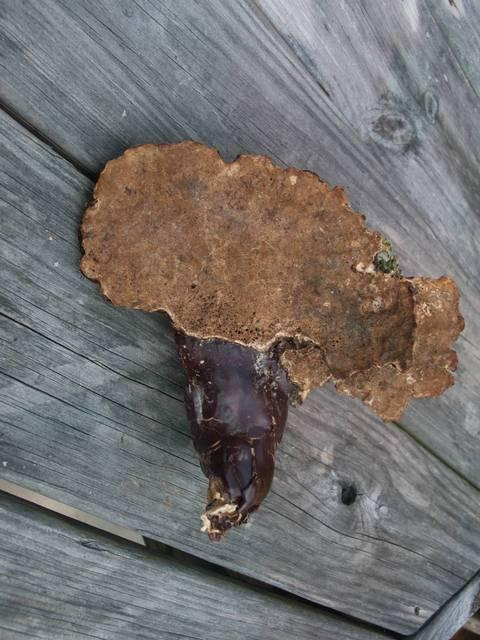poisonous_mushroom: (70, 121, 465, 429), (172, 327, 318, 543)
